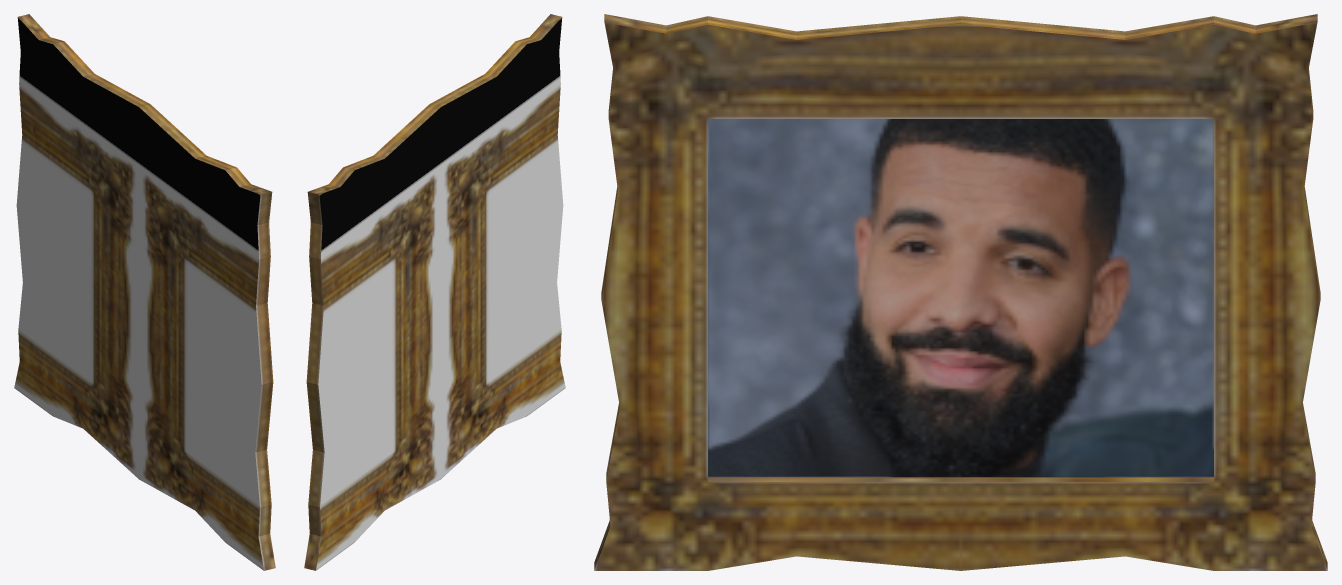
Rendered from Model_PictureFrame1.glb.
3 views of the same model, side by side, from view 1: azimuth 30°, elevation 25°; view 2: azimuth 150°, elevation 25°; view 3: azimuth 270°, elevation 25° (orthographic). The views are drawn at different scales.
Visible parts, largest first — view 1: Cube.006; view 2: Cube.006; view 3: Cube.006.
Part boxes in pixels (x1,y1,x2,y2): Cube.006: [14, 14, 275, 570]; Cube.006: [304, 14, 565, 570]; Cube.006: [594, 14, 1327, 570].
Bounding box in the file's own units: 0.0433 × 1.32 × 1.6.
2 materials, 2 textured.
